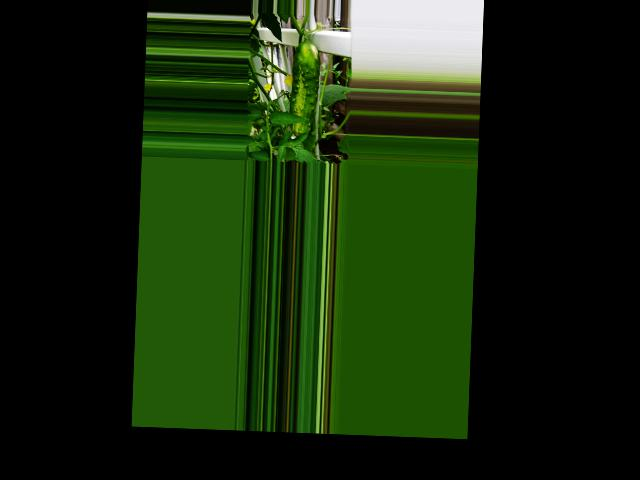cucumber: (290, 40, 321, 136)
